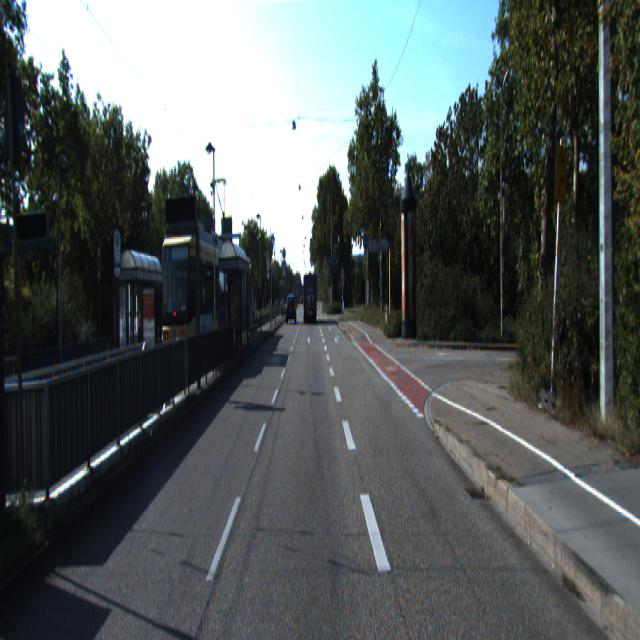Car: (153, 226, 241, 378), (303, 273, 317, 324), (286, 296, 296, 325)
